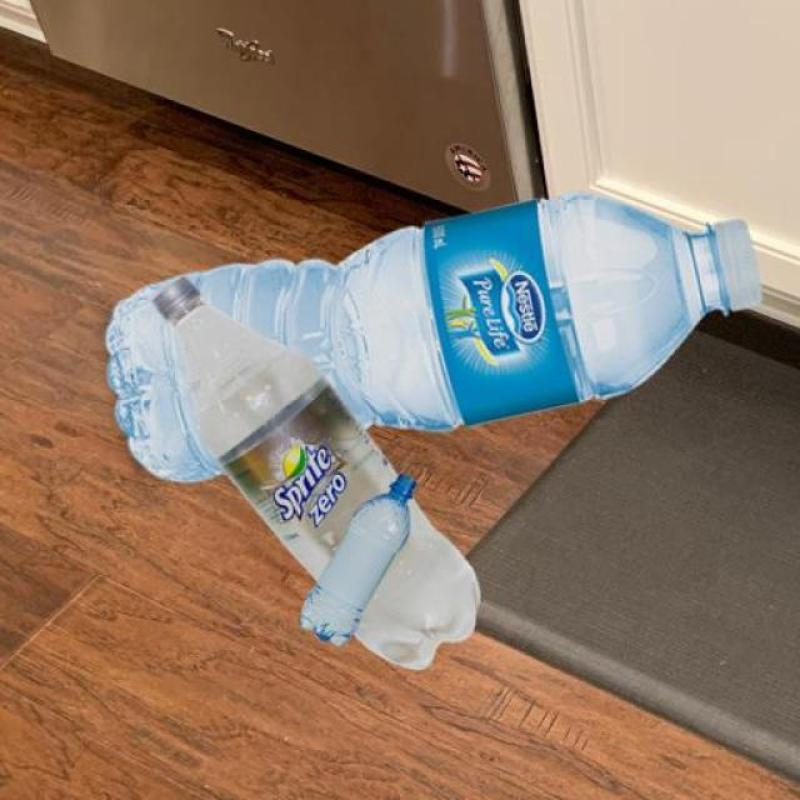botella: (105, 192, 763, 484), (152, 275, 484, 675), (298, 474, 416, 648)
